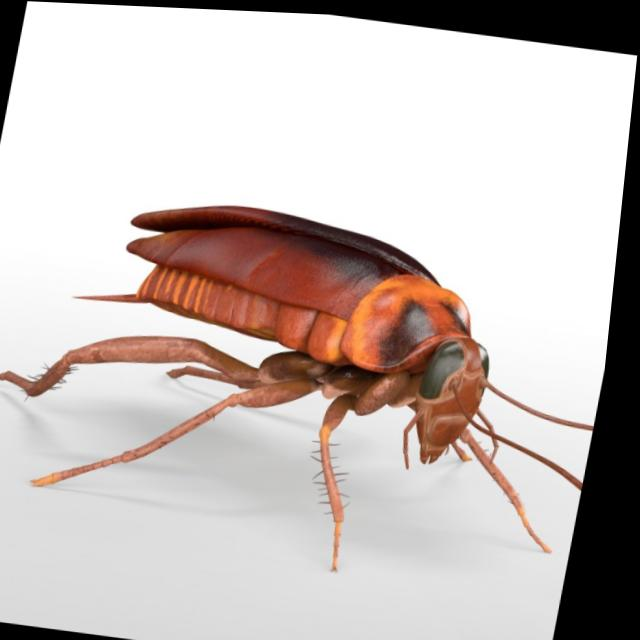Cockroach: (0, 153, 628, 605)
